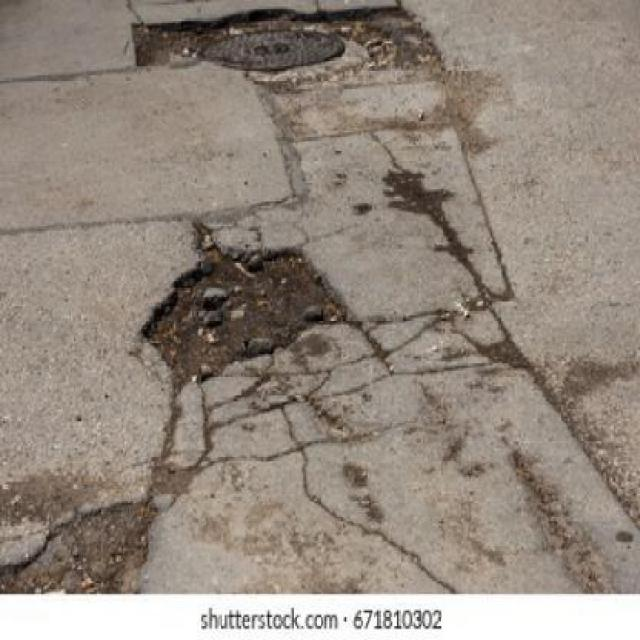Pothole: (139, 222, 356, 386), (350, 5, 441, 89), (200, 32, 346, 72), (131, 14, 200, 75)
